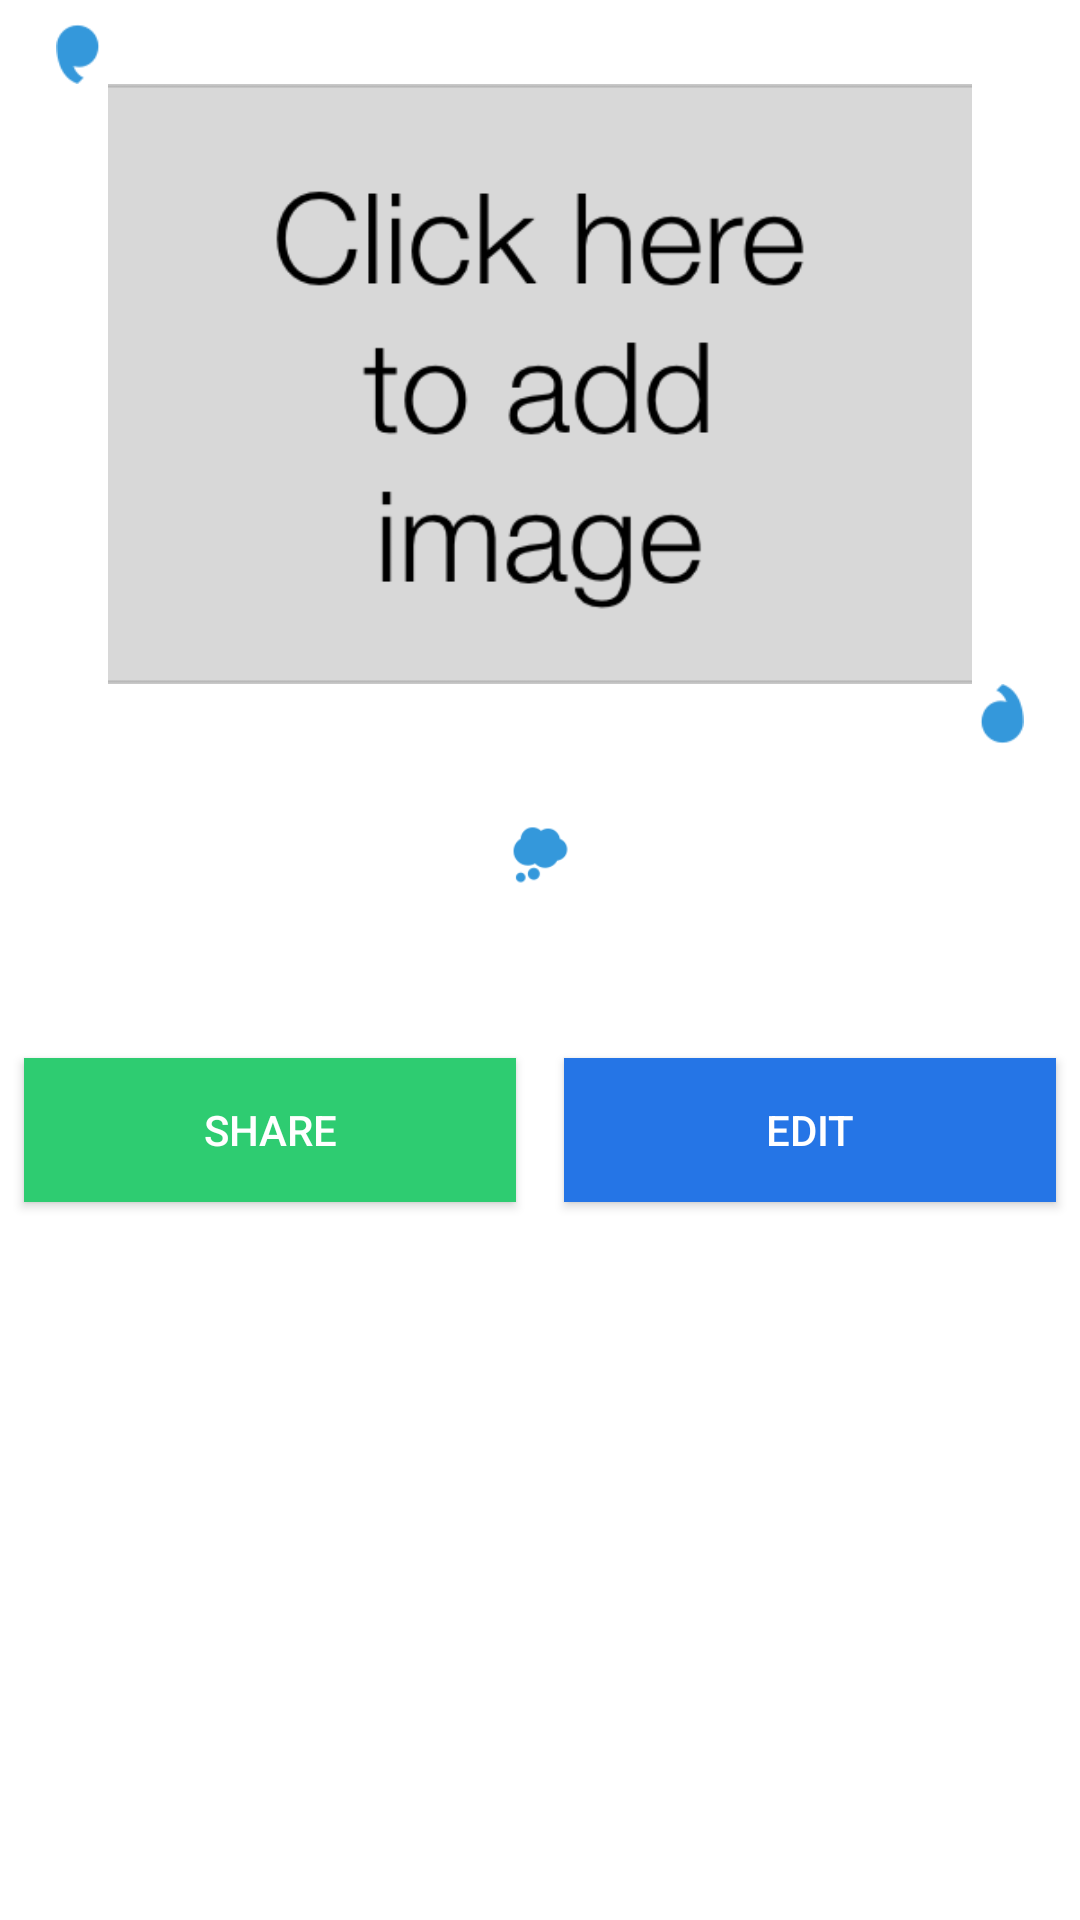

Icon click points for this 1080×1920 phone screenshot, format [x,y]:
quotation mark bottom: [1002,713]
quotation mark top: [77,54]
